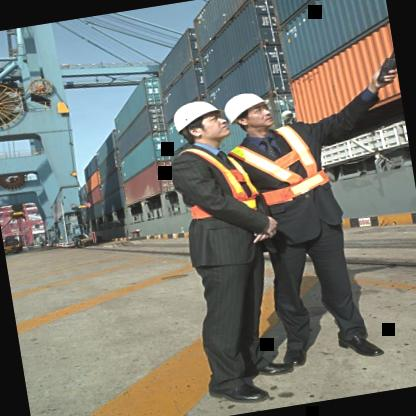helmet: (158, 90, 236, 152), (215, 82, 277, 142)
